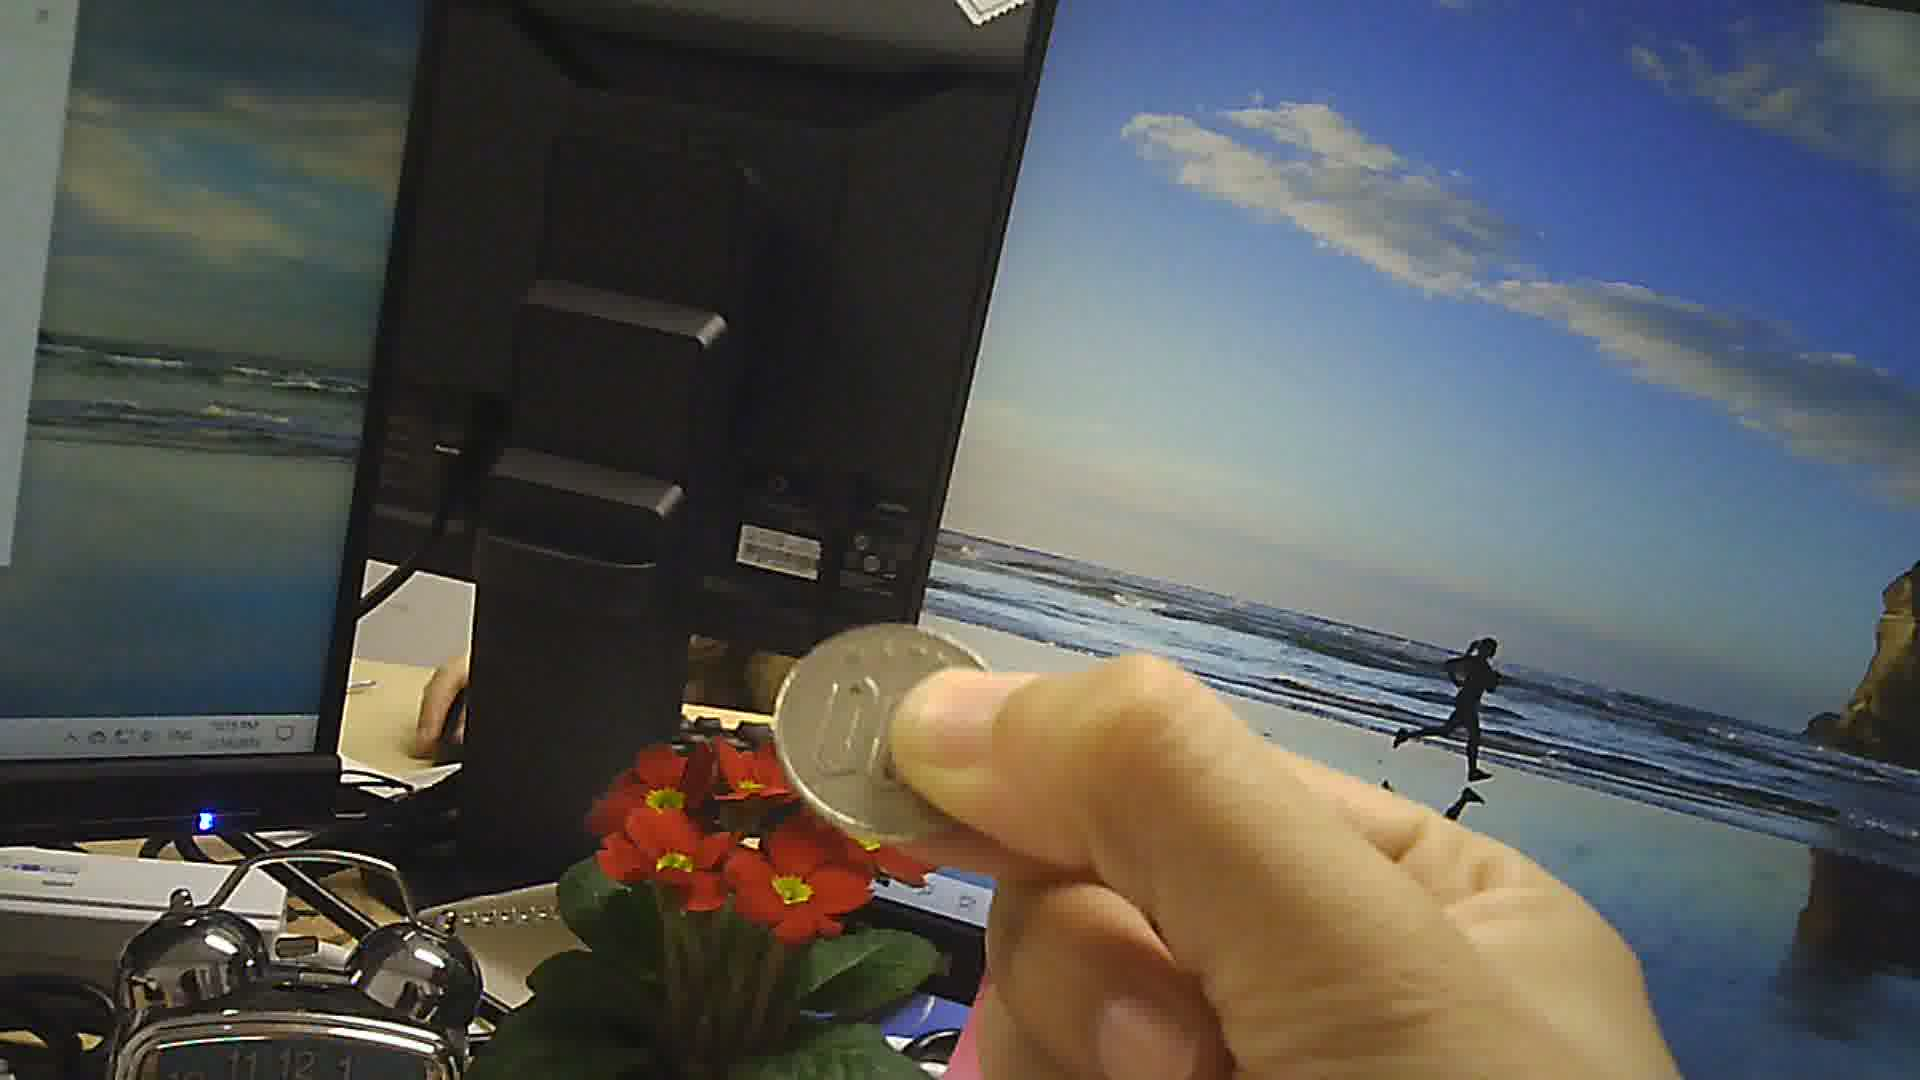100 Yen: (775, 622, 1015, 848)
